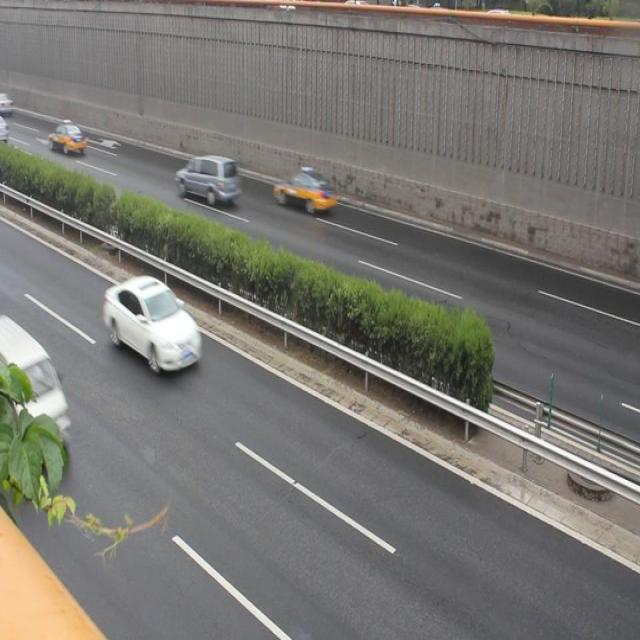car: (105, 276, 203, 372), (273, 169, 336, 215)
truck: (0, 322, 74, 477), (174, 153, 240, 207)
